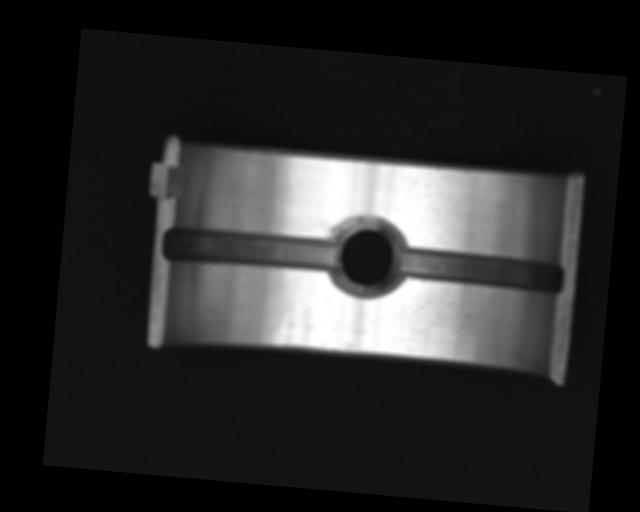gap: (162, 222, 337, 278), (396, 248, 566, 293)
hole: (324, 210, 411, 304)
